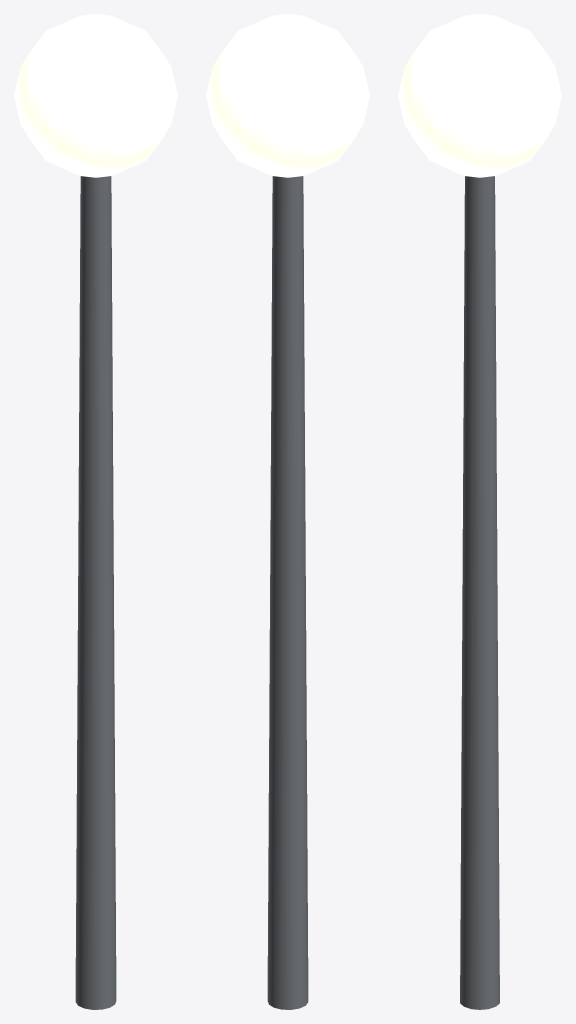
The model's file is Lampball.glb.
3 renders of one model, left to right at view 1: azimuth 30°, elevation 25°; view 2: azimuth 150°, elevation 25°; view 3: azimuth 270°, elevation 25°, orthographic.
Visible parts, largest first — view 1: model; view 2: model; view 3: model.
Boxes of the visible parts, bbox=[...] form: model: bbox=[14, 14, 177, 1009]; model: bbox=[206, 14, 369, 1009]; model: bbox=[398, 14, 561, 1009].
Size of the model in its own units: 0.64 by 4.22 by 0.64.
